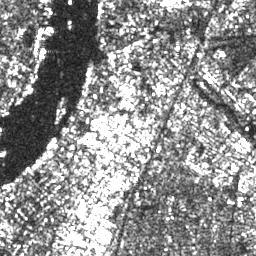ship: (46, 135, 58, 149), (38, 46, 47, 60), (46, 25, 56, 34), (15, 96, 23, 106), (2, 110, 9, 118), (66, 19, 71, 29)
